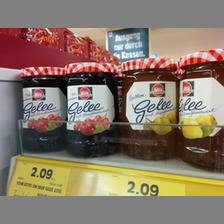Marmelade: (118, 57, 178, 160), (178, 46, 222, 170), (64, 61, 119, 158), (19, 65, 65, 151)
